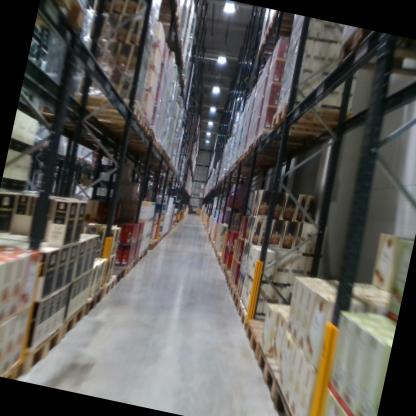pallet: (118, 0, 178, 135), (332, 26, 416, 89), (267, 91, 357, 143), (32, 77, 96, 131), (73, 85, 145, 132), (239, 304, 294, 363), (246, 342, 292, 408), (33, 0, 97, 47), (20, 315, 65, 380), (268, 379, 320, 416), (252, 125, 312, 157), (245, 137, 308, 165), (58, 297, 88, 348), (262, 22, 298, 47), (1, 350, 29, 381), (81, 281, 105, 317), (255, 36, 290, 60), (155, 3, 185, 28), (268, 9, 302, 30), (233, 298, 252, 329), (106, 262, 127, 286), (99, 271, 118, 297), (129, 132, 159, 148), (136, 137, 164, 153), (244, 149, 271, 164), (141, 123, 158, 145), (238, 154, 265, 167), (224, 278, 240, 298), (229, 288, 241, 310), (119, 258, 133, 276), (128, 256, 138, 272), (221, 265, 232, 279), (72, 154, 86, 165), (139, 245, 149, 259), (219, 259, 229, 271), (83, 157, 95, 167), (134, 252, 143, 264), (224, 272, 231, 285), (217, 255, 224, 268)
